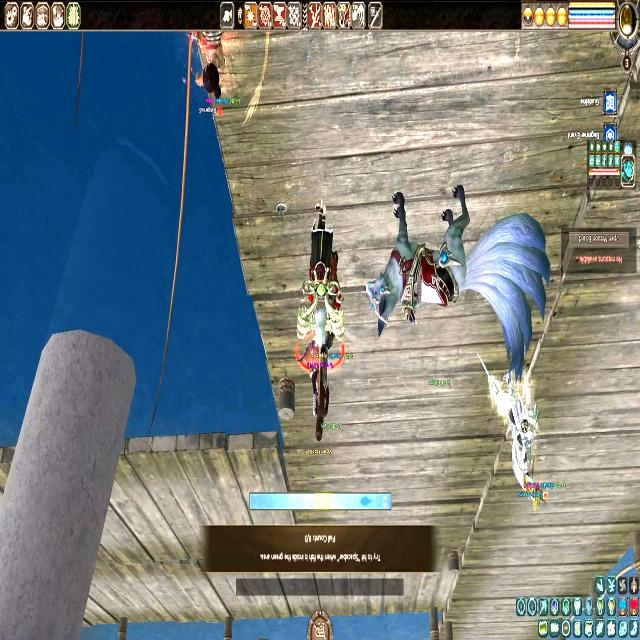fishes: (360, 495, 373, 509)
